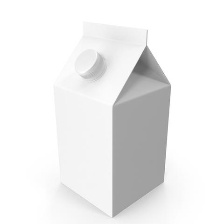carton: (48, 17, 176, 216)
